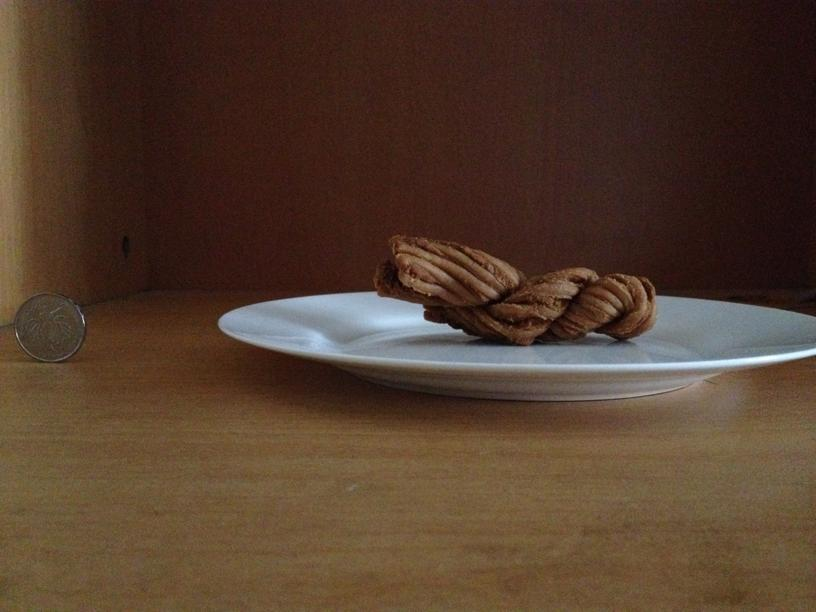coin: (13, 292, 86, 363)
fired_dough_twist: (369, 232, 659, 344)
